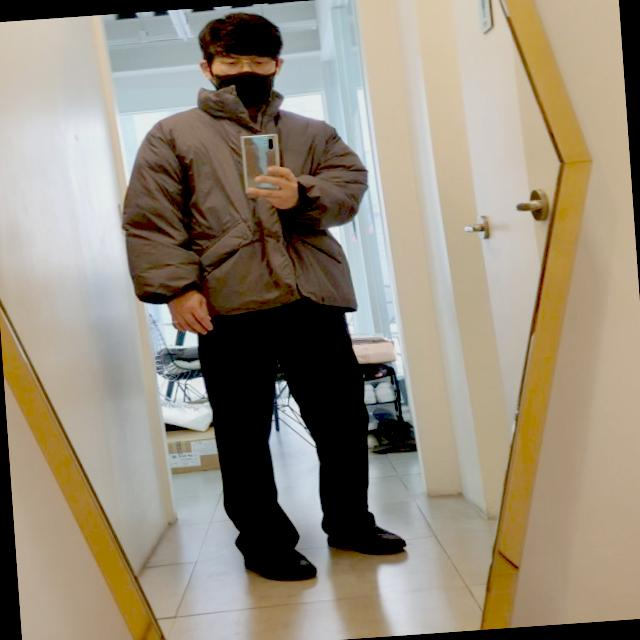denimpants: (198, 305, 380, 562)
padding: (115, 72, 378, 331)
